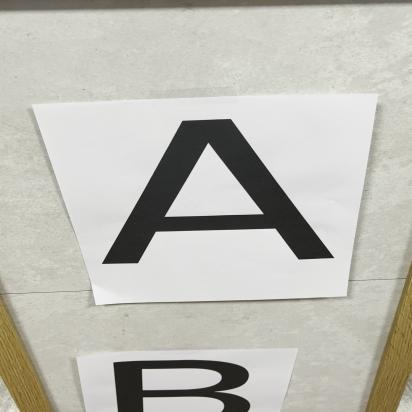seat: (97, 112, 366, 266)
